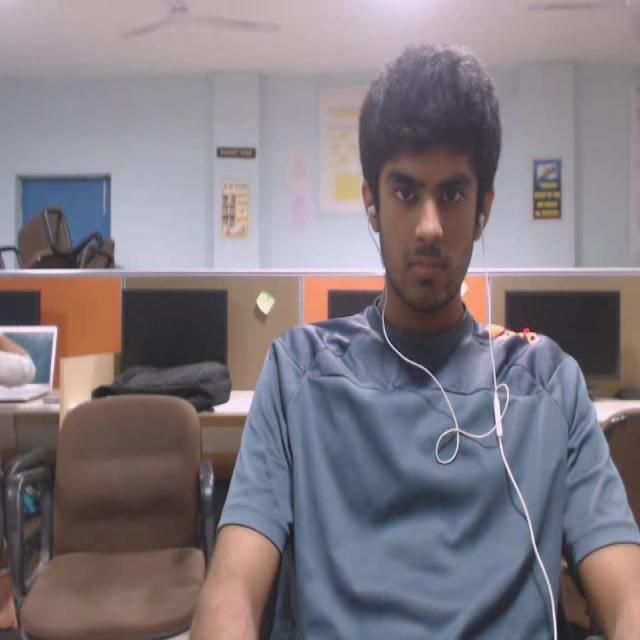Engaged: (344, 39, 527, 327)
